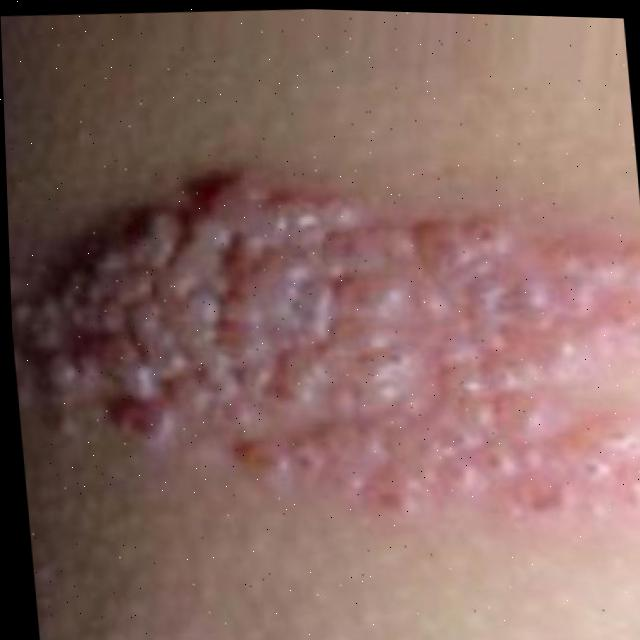Shingles: (5, 137, 640, 581)
